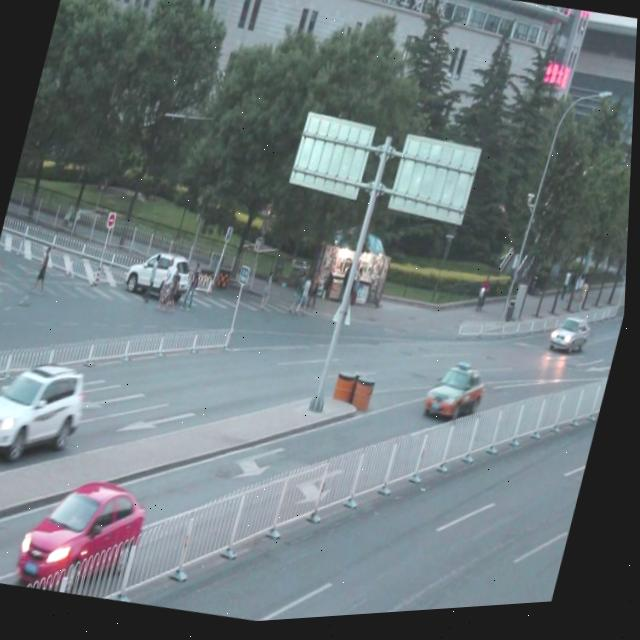car: (18, 462, 159, 599), (0, 348, 95, 473), (123, 243, 199, 310), (422, 363, 492, 433), (550, 320, 593, 364)
